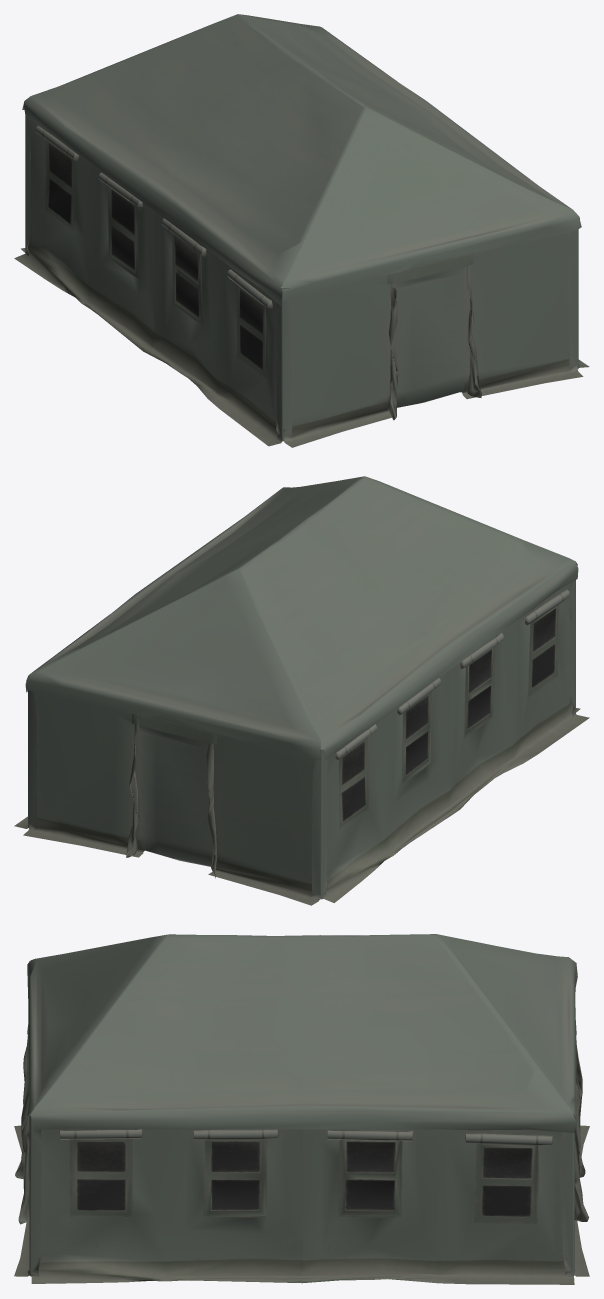
Rendered from SM_Tent_01a.FBX.
3 views of the same model, one above another, from view 1: azimuth 30°, elevation 25°; view 2: azimuth 150°, elevation 25°; view 3: azimuth 270°, elevation 25° (orthographic). The views are drawn at different scales.
Parts seen in each view (by area): view 1: SM_Tent_01a; view 2: SM_Tent_01a; view 3: SM_Tent_01a.
Boxes of the visible parts, x1,y1,x2,y2 form: SM_Tent_01a: [14, 14, 589, 447]; SM_Tent_01a: [14, 476, 589, 905]; SM_Tent_01a: [14, 934, 589, 1284].
Bounding box in the file's own units: 480 × 357 × 697.
